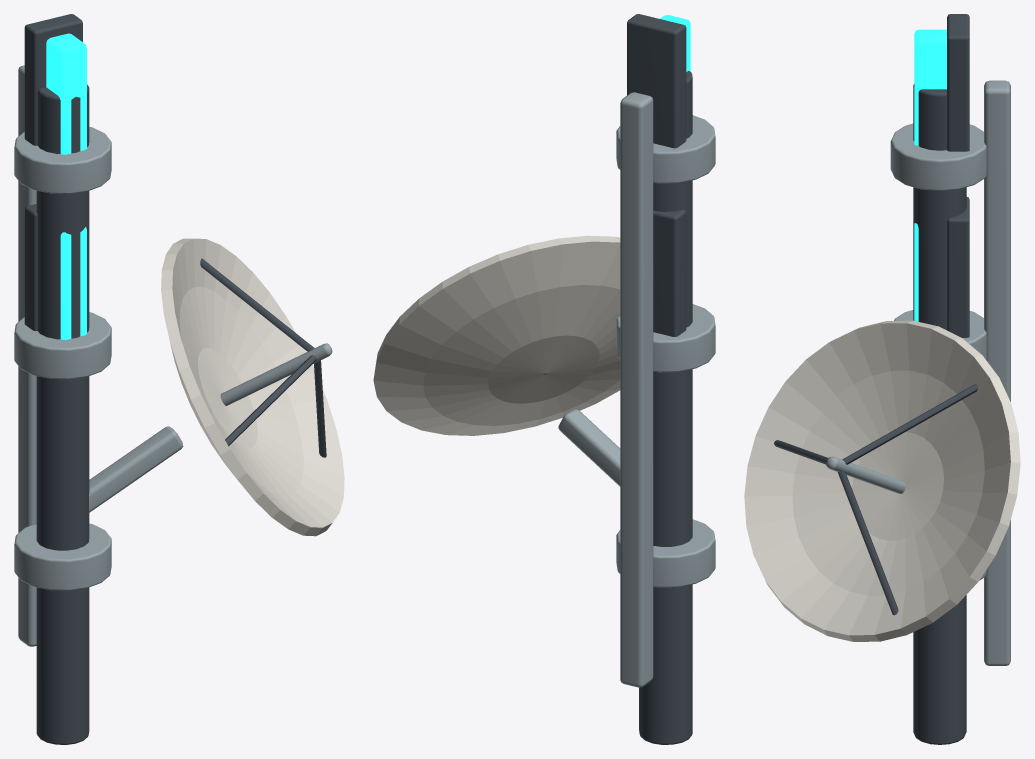
Rendered from SM_RemoteBase_Antenna.fbx.
3 renders of one model, left to right at view 1: azimuth 30°, elevation 25°; view 2: azimuth 150°, elevation 25°; view 3: azimuth 270°, elevation 25°, orthographic.
Visible parts, largest first — view 1: SM_RemoteBase_Antenna; view 2: SM_RemoteBase_Antenna; view 3: SM_RemoteBase_Antenna.
Part boxes in pixels (box(x1,y1,x2,y2)): SM_RemoteBase_Antenna: box(14, 14, 344, 744); SM_RemoteBase_Antenna: box(373, 14, 715, 744); SM_RemoteBase_Antenna: box(744, 14, 1020, 744).
Size of the model in its own units: 87.9 by 67.18 by 191.
